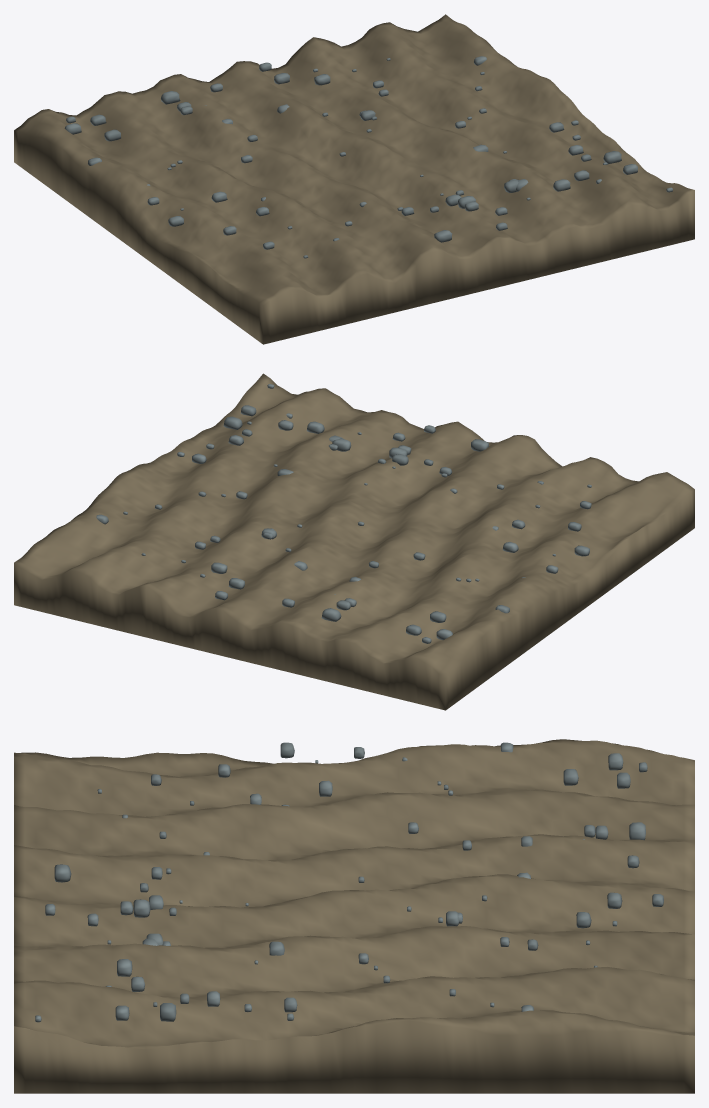
File: sand-pebble-bed.glb
3 renders of one model, top to bottom at view 1: azimuth 30°, elevation 25°; view 2: azimuth 150°, elevation 25°; view 3: azimuth 270°, elevation 25°, orthographic. The views are drawn at different scales.
Visible parts, largest first — view 1: sand-pebble-bed; view 2: sand-pebble-bed; view 3: sand-pebble-bed.
Part boxes in pixels (<box>): sand-pebble-bed: <box>14,14,694,344</box>; sand-pebble-bed: <box>14,373,694,710</box>; sand-pebble-bed: <box>14,739,694,1093</box>.
Size of the model in its own units: 2 by 0.2377 by 2.
